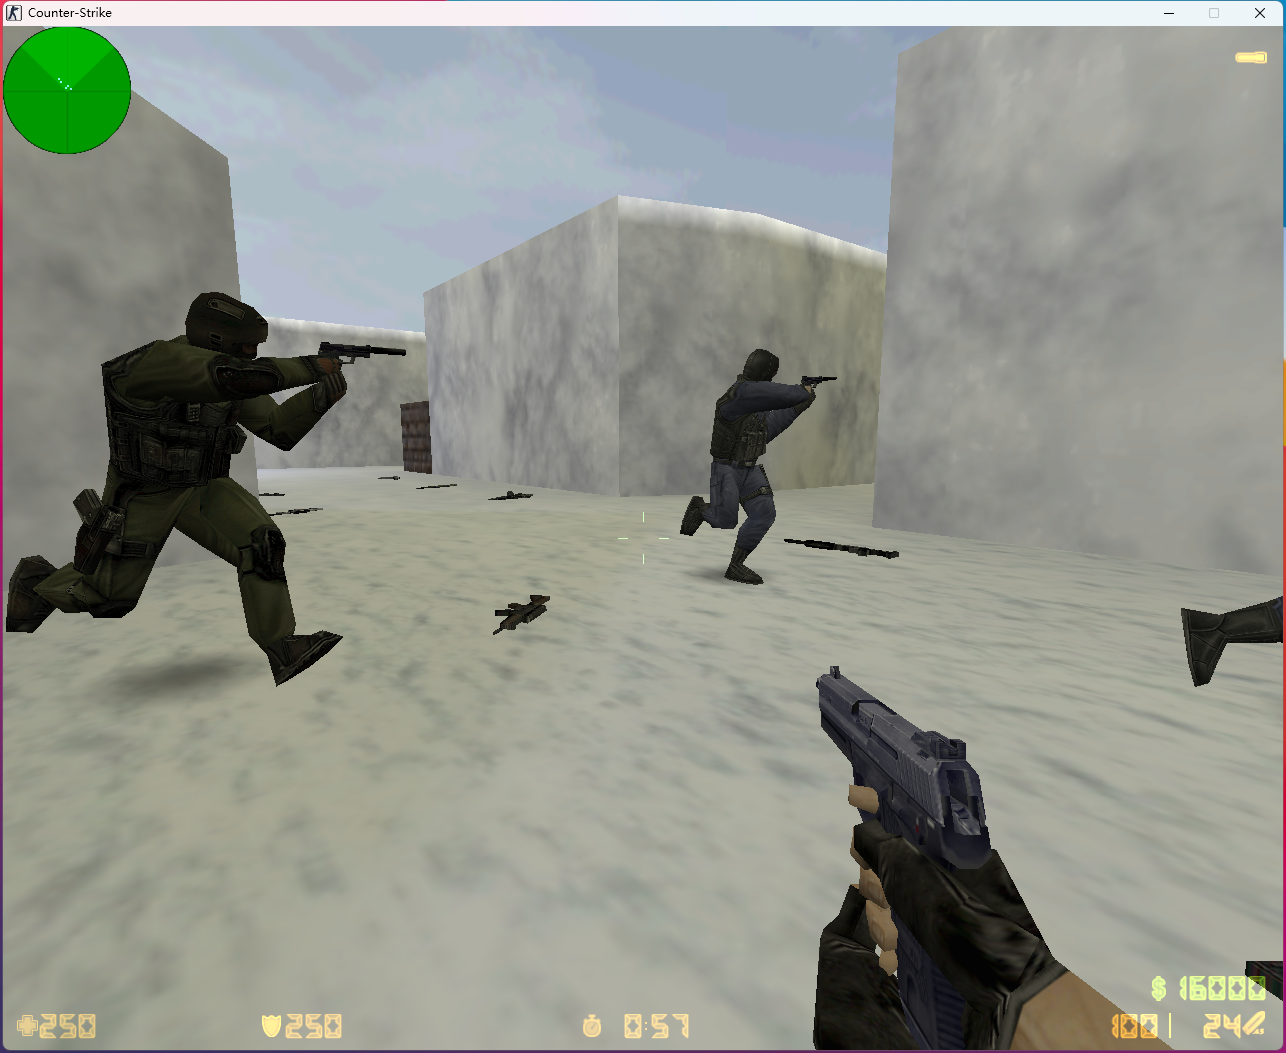C: (5, 290, 352, 689), (678, 351, 812, 587)
weapon: (486, 586, 551, 636), (782, 538, 900, 559), (267, 505, 321, 518), (488, 491, 529, 505), (407, 482, 459, 491), (373, 474, 397, 482), (258, 489, 282, 497)
